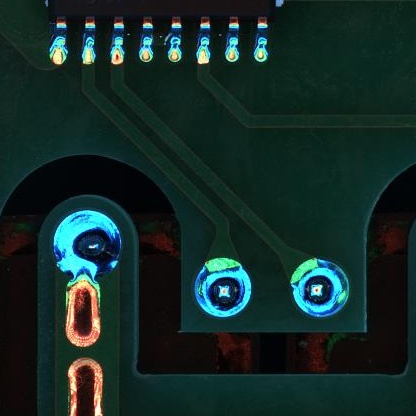spot: (52, 211, 124, 281), (290, 258, 352, 319), (195, 257, 252, 319)
